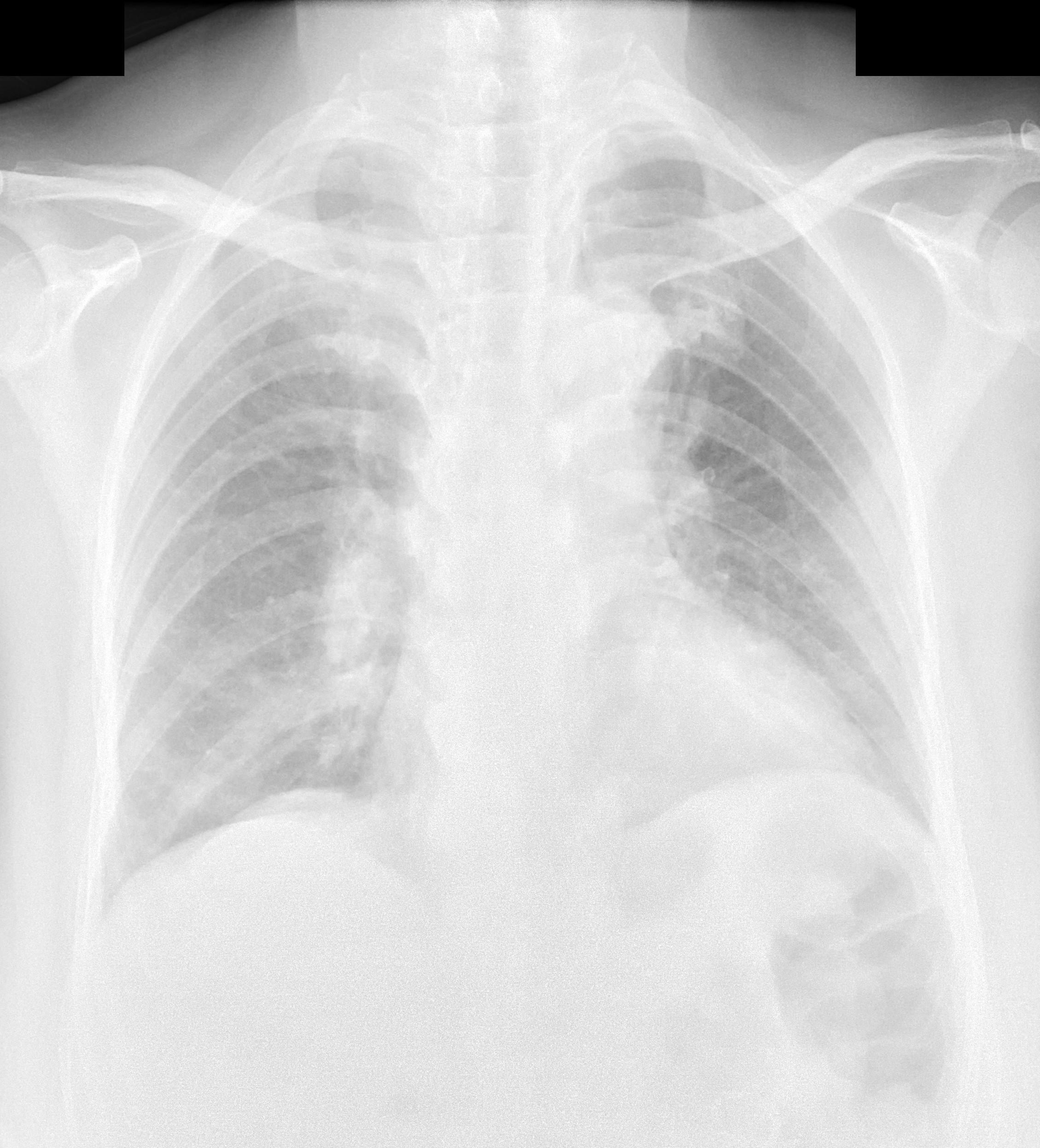Aortic enlargement: (526, 286, 675, 456)
Pleural thickening: (617, 121, 726, 147)
